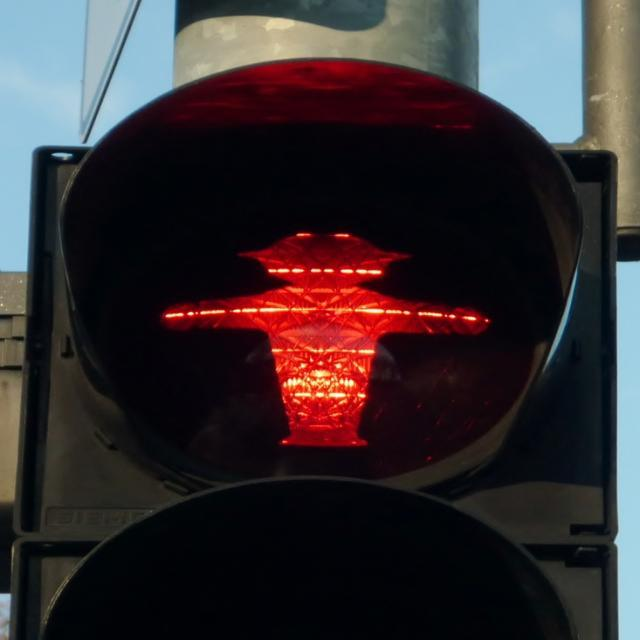traffic light: (8, 56, 619, 640)
